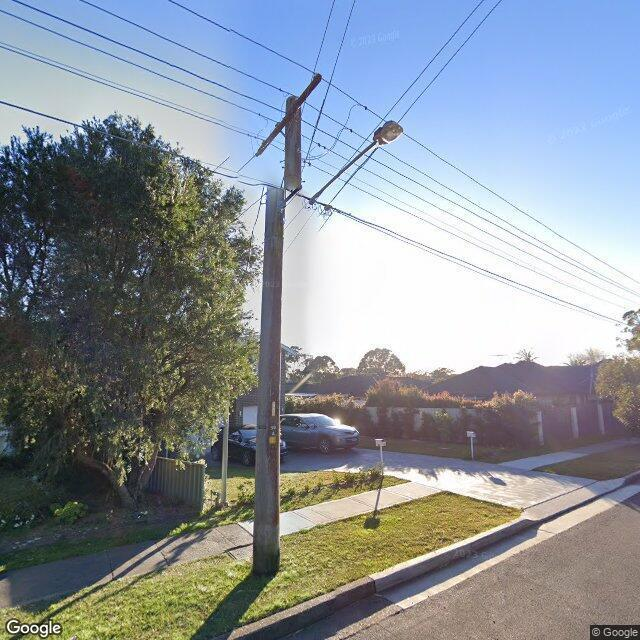crossarm: (255, 74, 323, 158)
steel-pole: (219, 393, 231, 504)
streetlight: (277, 120, 404, 213)
timber-pole: (252, 95, 302, 573)
